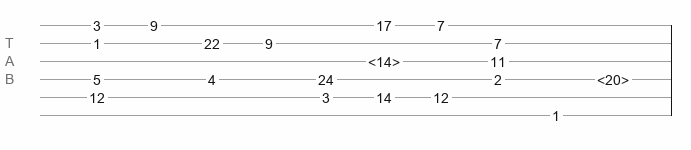1: (93, 36, 101, 46), (552, 108, 560, 118)
11: (490, 54, 506, 64)
12: (89, 90, 105, 100), (433, 90, 449, 100)
14: (376, 90, 392, 100)
17: (376, 18, 392, 28)
2: (494, 72, 502, 82)
22: (204, 36, 220, 46)
24: (318, 72, 334, 82)
3: (93, 18, 101, 28), (322, 90, 330, 100)
4: (208, 72, 216, 82)
5: (93, 72, 101, 82)
7: (437, 18, 445, 28), (494, 36, 502, 46)
9: (150, 18, 158, 28), (265, 36, 273, 46)
harmonic: (368, 54, 400, 64), (597, 72, 629, 82)
